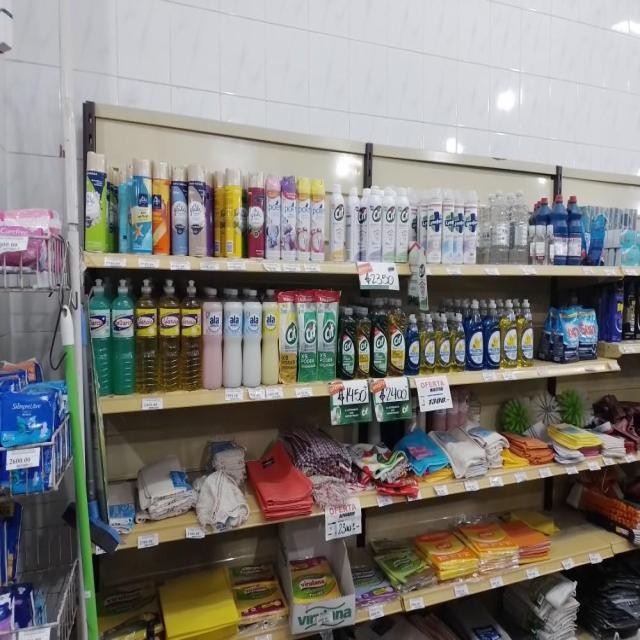ala_crem_amarillo: (262, 288, 278, 386)
ala_crem_blanco: (223, 287, 242, 388), (243, 288, 261, 388)
ala_crem_rosado: (202, 284, 222, 390)
cif_conc_bot_amarilla: (388, 297, 405, 377), (356, 305, 371, 379)
cif_conc_botella_verde: (338, 306, 356, 380), (372, 297, 388, 378)
cif_conc_sachet_amarillo: (279, 290, 298, 384)
cif_conc_sachet_verde: (318, 289, 338, 381), (298, 290, 316, 382)
magistral_con_amarillo: (501, 297, 518, 368), (518, 298, 535, 368), (420, 313, 435, 375), (436, 312, 450, 373), (451, 312, 465, 372)
magistral_con_azul: (466, 298, 483, 371), (484, 298, 500, 370), (406, 313, 420, 376)
